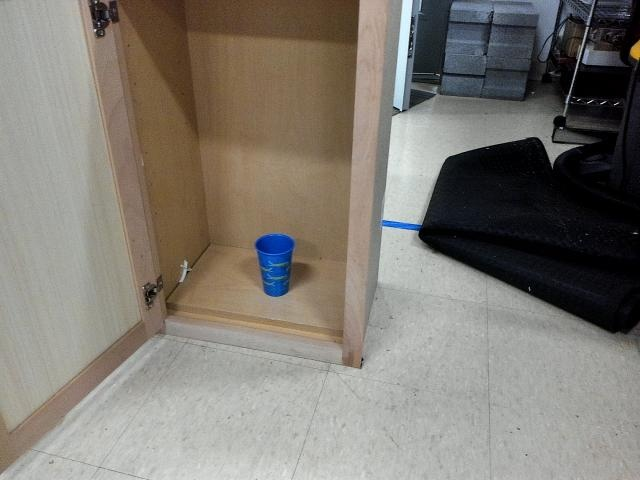water_cup: (250, 227, 300, 302)
